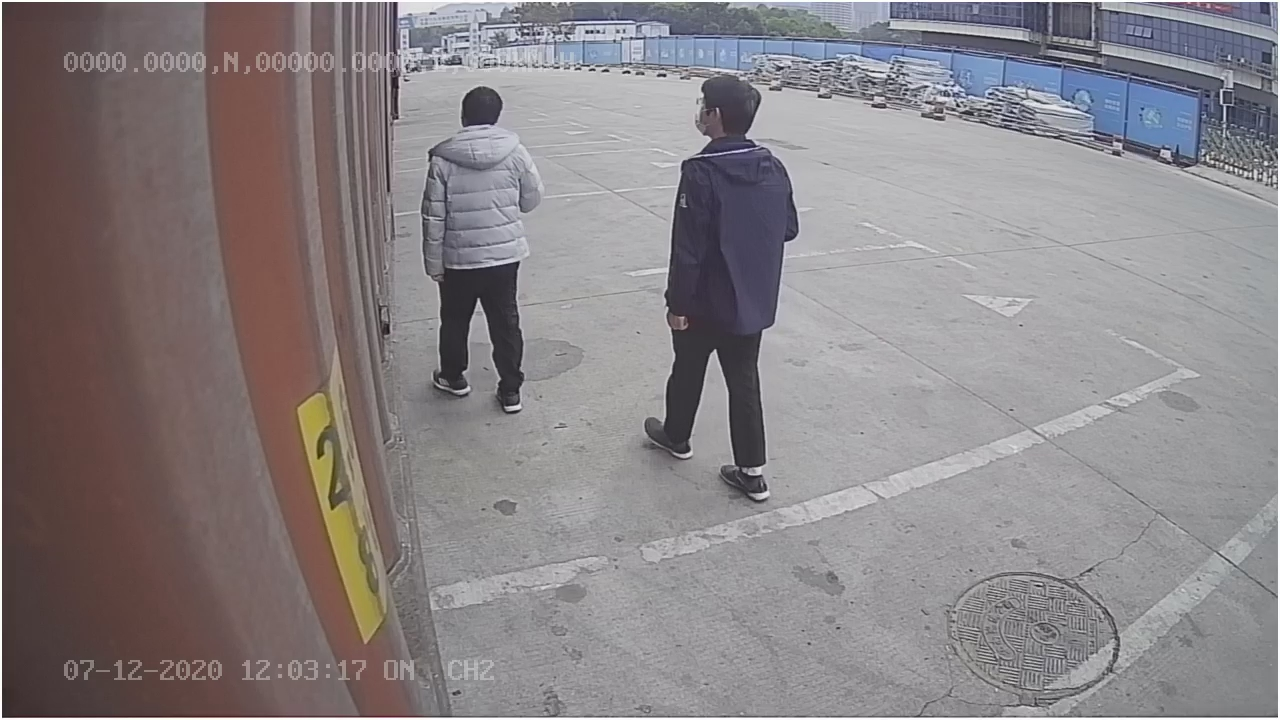person: (644, 73, 802, 505), (418, 82, 547, 415)
